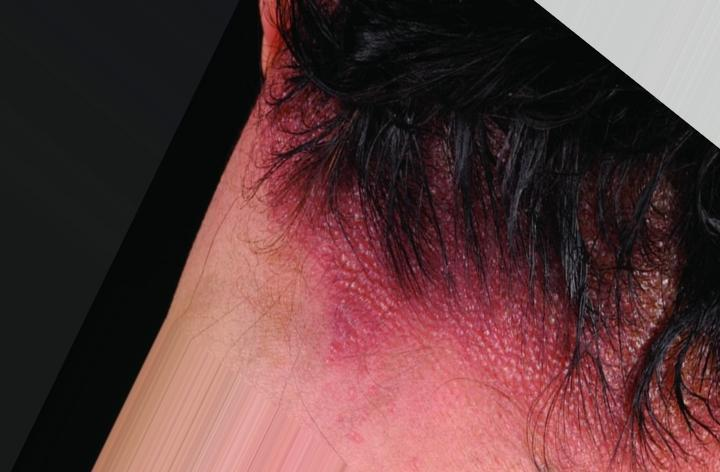Contact Dermatitis: (304, 86, 673, 408)
